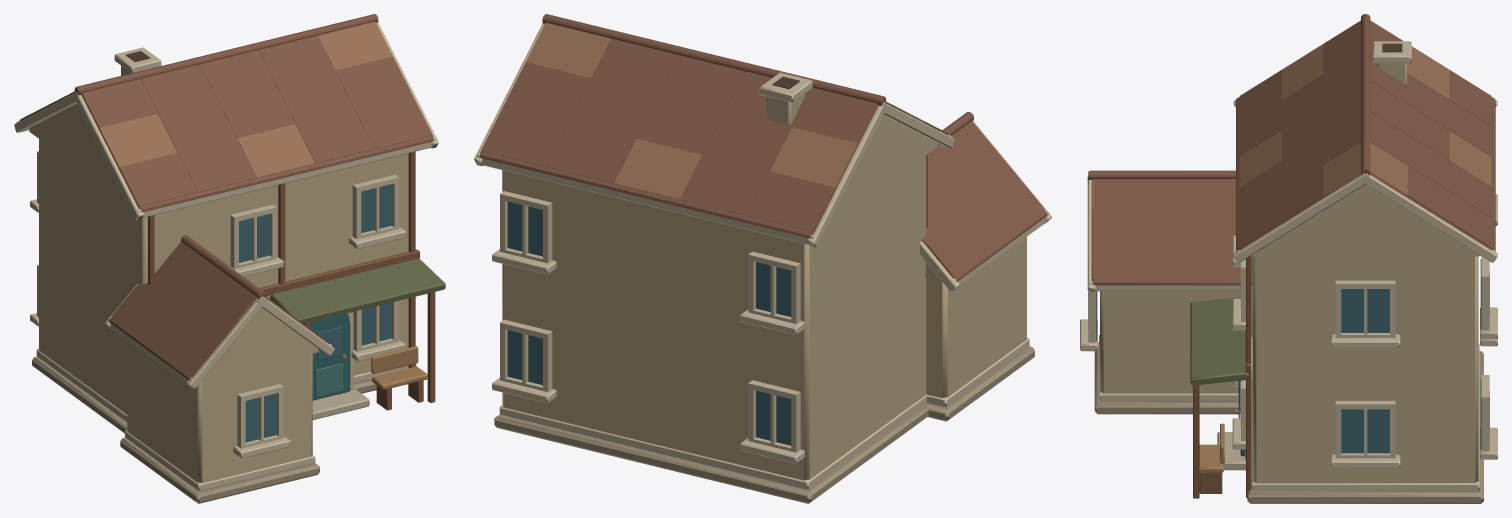
Rendered from inn_level_2.glb.
3 views of the same model, side by side, from view 1: azimuth 30°, elevation 25°; view 2: azimuth 150°, elevation 25°; view 3: azimuth 270°, elevation 25° (orthographic). The views are drawn at different scales.
Parts seen in each view (by area): view 1: inn_level_2_runtime; view 2: inn_level_2_runtime; view 3: inn_level_2_runtime.
Part boxes in pixels (box(x1,y1,x2,y2)): inn_level_2_runtime: box(14, 14, 445, 503); inn_level_2_runtime: box(474, 14, 1051, 503); inn_level_2_runtime: box(1080, 14, 1497, 503).
Size of the model in its own units: 5.88 by 5.75 by 6.29.
